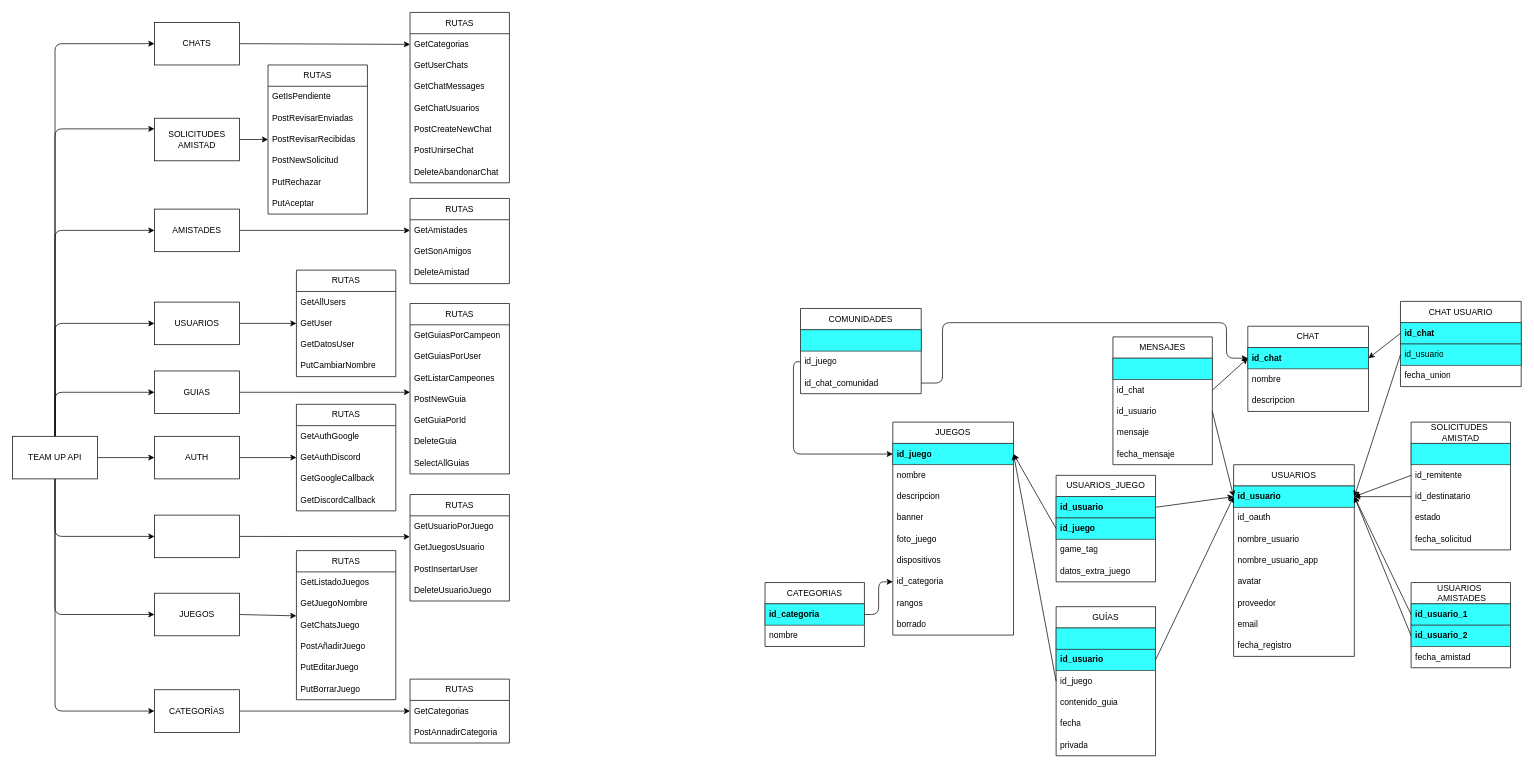
The diagram is 1534 pixels wide and 768 high, and some of its shapes have lost their labels. Each missing label, with the centre of its shape:
id_comunidad: point (860, 340)
id_guia: point (1105, 638)
id_mensaje: point (1162, 368)
id_solicitud: point (1460, 454)
USUARIOS-JUEGOS: point (197, 536)
